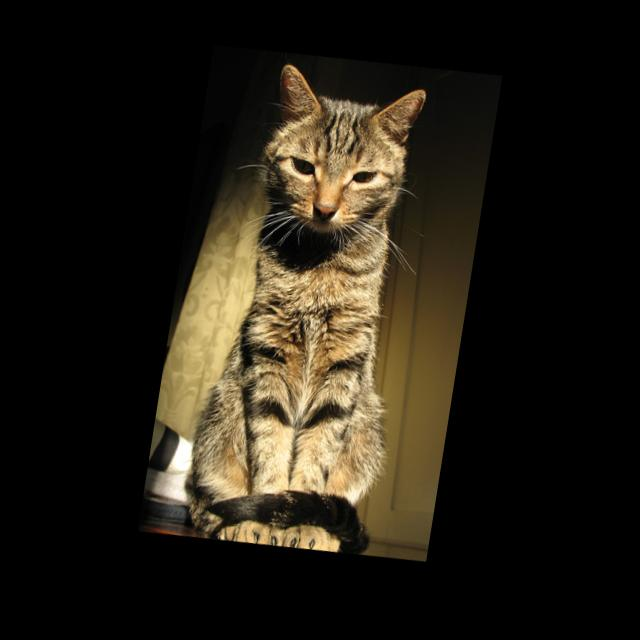animals: (264, 62, 426, 237)
